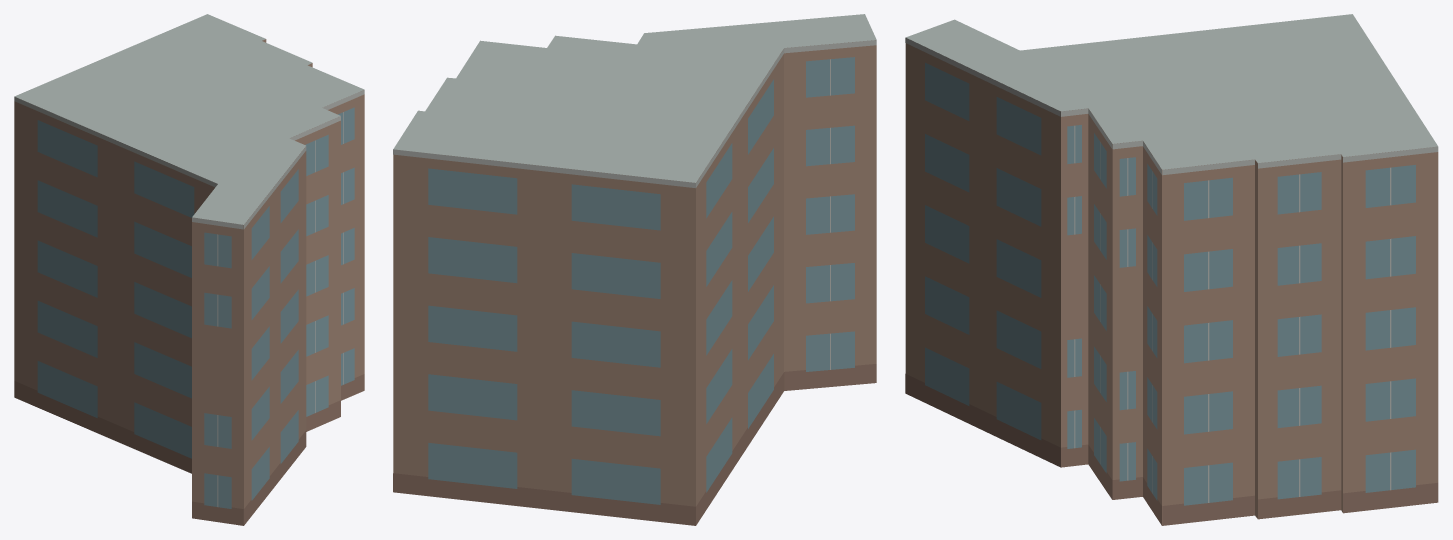
File: survey-upis-33026154.glb
The picture shows the model from 3 angles, left to right: view 1: azimuth 30°, elevation 25°; view 2: azimuth 150°, elevation 25°; view 3: azimuth 270°, elevation 25°; orthographic projection. The views are drawn at different scales.
Parts seen in each view (by area): view 1: survey-upis-33026154.tmp; view 2: survey-upis-33026154.tmp; view 3: survey-upis-33026154.tmp.
Boxes of the visible parts, x1,y1,x2,y2 form: survey-upis-33026154.tmp: (14,14,364,525); survey-upis-33026154.tmp: (393,14,876,525); survey-upis-33026154.tmp: (905,14,1438,525).
Bounding box in the file's own units: 14.93 × 15.9 × 21.57.
